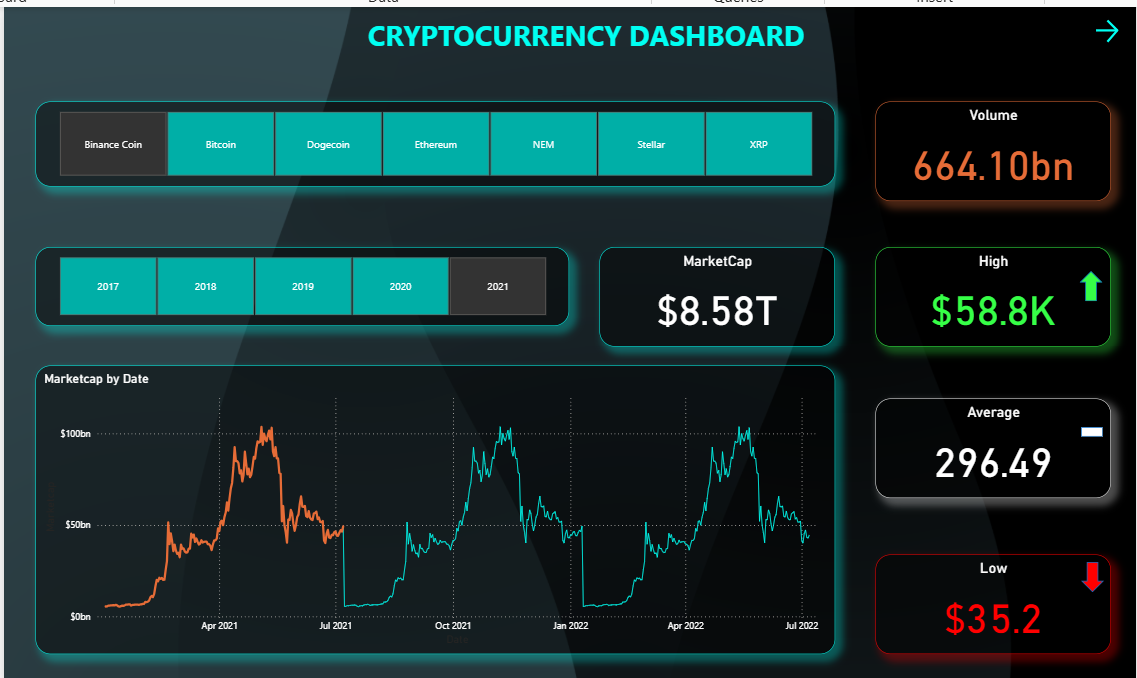

This screenshot's page, from the dashboard's own definition file:
{"tool":"powerbi","page":{"name":"Page 1","canvas":[1500,900],"ordinal":0},"visuals":[{"type":"slicer","fields":{"Values":["CryptoData_CSV.Name"]},"box":[41.8,125.4,1059.7,112.6],"z":0},{"type":"slicer","fields":{"Values":["CryptoData_CSV.Year"]},"box":[41.8,318.4,707.5,104.5],"z":1000},{"type":"lineChart","fields":{"Y":["Sum(CryptoData_CSV.Marketcap)"],"Category":["CryptoData_CSV.Date"]},"box":[41.8,474.4,1059.7,382.7],"z":2000},{"type":"actionButton","box":[1442.4,11.3,46.6,40.2],"z":3000},{"type":"textbox","box":[310.4,6.4,923,64.3],"z":4000},{"type":"card","title":"MarketCap","fields":{"Values":["Sum(CryptoData_CSV.Marketcap)"]},"box":[789.6,318.4,312,131.9],"z":5000},{"type":"card","title":"Volume","fields":{"Values":["Sum(CryptoData_CSV.Volume)"]},"box":[1154.6,125.4,312,131.9],"z":6000},{"type":"card","title":"High","fields":{"Values":["Sum(CryptoData_CSV.High)"]},"box":[1154.6,318.4,312,131.9],"z":7000},{"type":"card","title":"Average","fields":{"Values":["Avg(CryptoData_CSV.Average)"]},"box":[1154.6,519.4,312,131.9],"z":8000},{"type":"card","title":"Low","fields":{"Values":["Min(CryptoData_CSV.Low)"]},"box":[1154.6,725.2,312,131.9],"z":9000},{"type":"shape","box":[1426.4,349,30.6,40.2],"z":10000},{"type":"shape","box":[1428,736.5,30.6,40.2],"z":11000},{"type":"shape","box":[1428,556.4,28.9,12.9],"z":12000}]}

Visuals, with their boxes on the page's 1500x900 design canvas (x1, y1, x2, y2). These are canvas units, not pixel positions in the 1137x678 screenshot, which may show the page scaled, cropped or inside an application window:
slicer - CryptoData_CSV.Name: <bbox>42, 125, 1102, 238</bbox>
slicer - CryptoData_CSV.Year: <bbox>42, 318, 749, 423</bbox>
lineChart - Sum(CryptoData_CSV.Marketcap) x CryptoData_CSV.Date: <bbox>42, 474, 1102, 857</bbox>
actionButton: <bbox>1442, 11, 1489, 52</bbox>
textbox: <bbox>310, 6, 1233, 71</bbox>
"MarketCap" card: <bbox>790, 318, 1102, 450</bbox>
"Volume" card: <bbox>1155, 125, 1467, 257</bbox>
"High" card: <bbox>1155, 318, 1467, 450</bbox>
"Average" card: <bbox>1155, 519, 1467, 651</bbox>
"Low" card: <bbox>1155, 725, 1467, 857</bbox>
shape: <bbox>1426, 349, 1457, 389</bbox>
shape: <bbox>1428, 736, 1459, 777</bbox>
shape: <bbox>1428, 556, 1457, 569</bbox>
